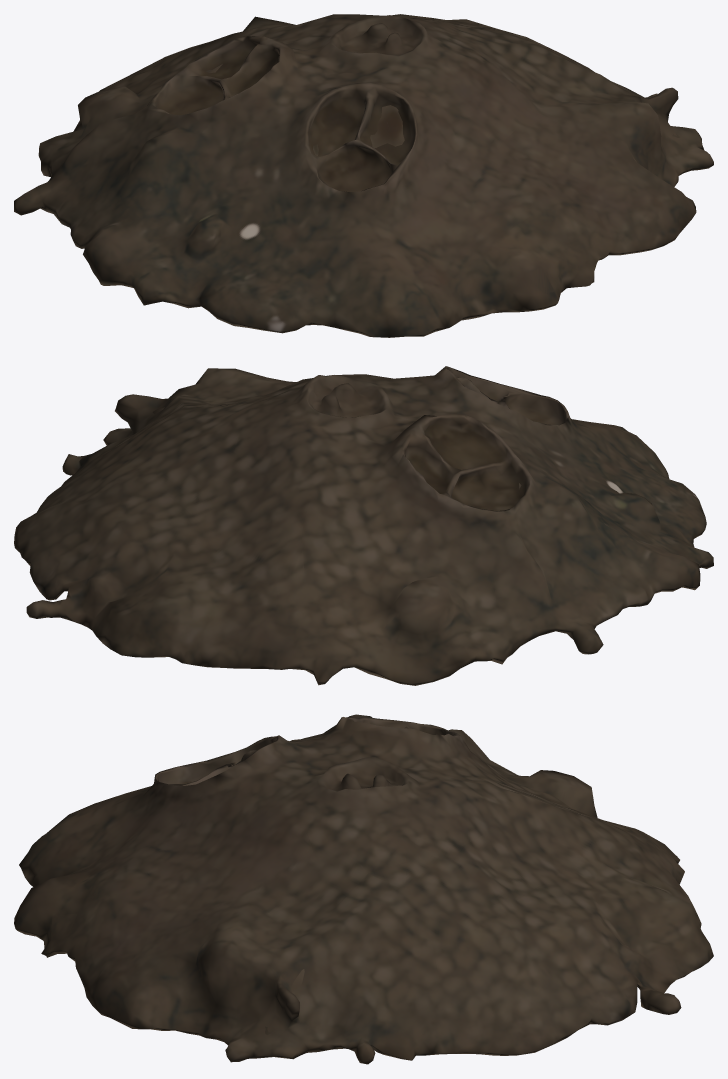
Rendered from SuperMonticule3.fbx.
3 views of the same model, one above another, from view 1: azimuth 30°, elevation 25°; view 2: azimuth 150°, elevation 25°; view 3: azimuth 270°, elevation 25° (orthographic). The views are drawn at different scales.
Parts seen in each view (by area): view 1: geometry_0; view 2: geometry_0; view 3: geometry_0.
Boxes of the visible parts, <box> form: geometry_0: <box>14,14,713,337</box>; geometry_0: <box>14,366,713,685</box>; geometry_0: <box>14,714,713,1064</box>.
Bounding box in the file's own units: 100 × 26.36 × 99.37.
Materials: 1 (1 with a texture image).
